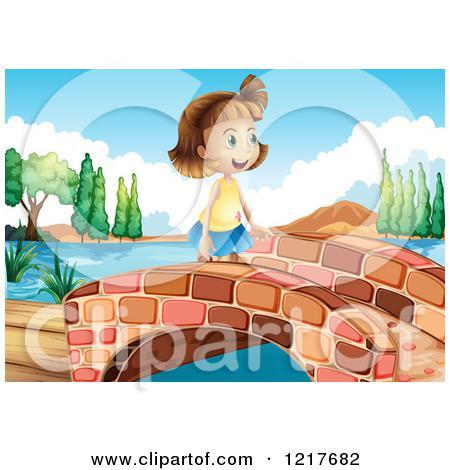person: (160, 82, 265, 269)
